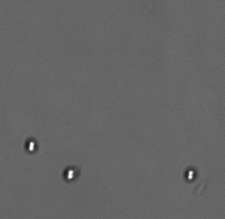Living Cell: (62, 165, 82, 183), (22, 137, 40, 155), (183, 164, 199, 183)
